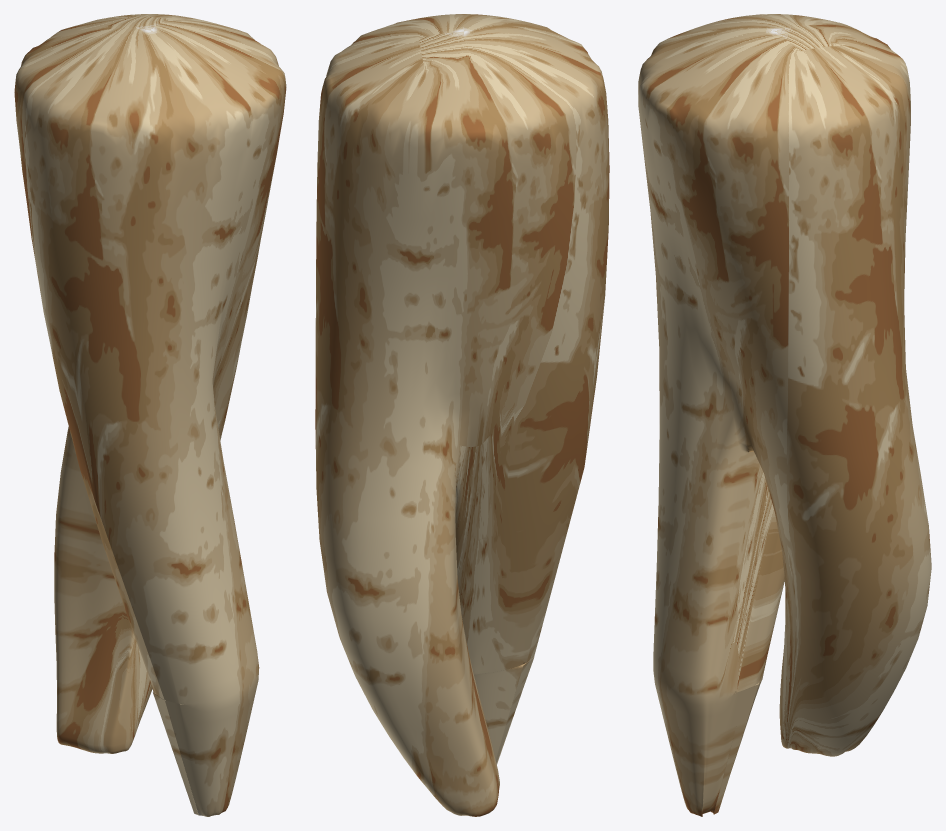
File: Ginseng.fbx
3 views of the same model, side by side, from view 1: azimuth 30°, elevation 25°; view 2: azimuth 150°, elevation 25°; view 3: azimuth 270°, elevation 25° (orthographic). The views are drawn at different scales.
Visible parts, largest first — view 1: pCylinder1; view 2: pCylinder1; view 3: pCylinder1.
Boxes of the visible parts, left/top/right/bottom form: pCylinder1: left=14, top=14, right=286, bottom=816; pCylinder1: left=315, top=14, right=609, bottom=816; pCylinder1: left=638, top=14, right=931, bottom=816.
Bounding box in the file's own units: 1.9 × 5.77 × 2.
